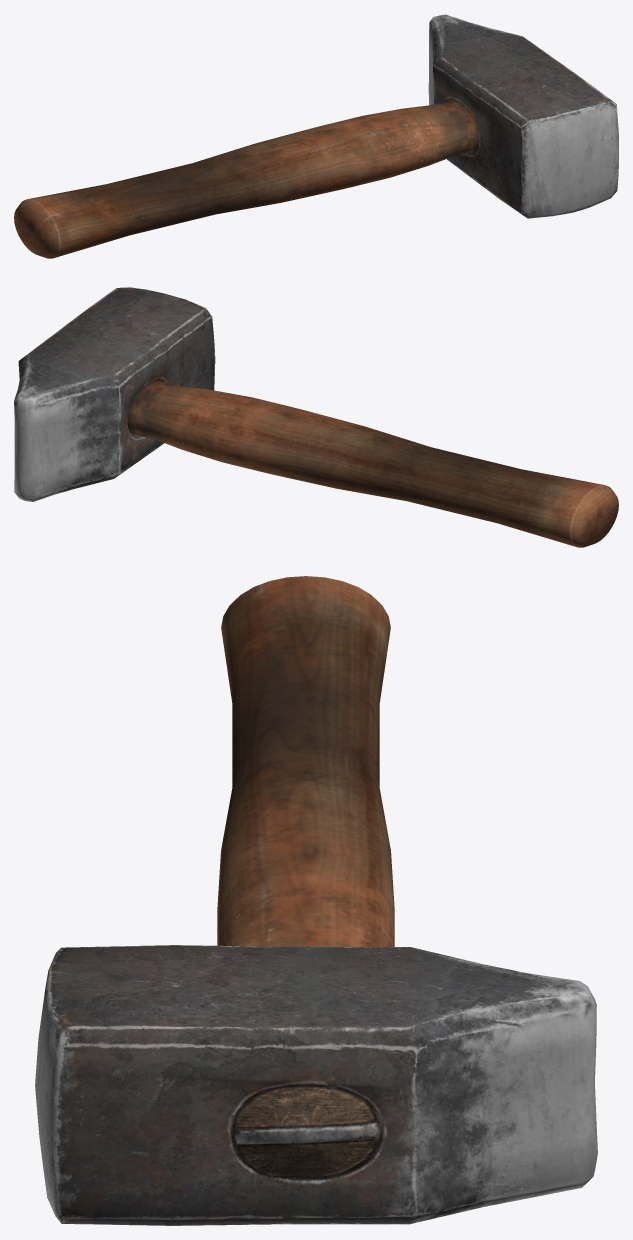
The model's file is Hammer upload.fbx.
3 views of the same model, one above another, from view 1: azimuth 30°, elevation 25°; view 2: azimuth 150°, elevation 25°; view 3: azimuth 270°, elevation 25° (orthographic). The views are drawn at different scales.
Parts seen in each view (by area): view 1: Cube.002; view 2: Cube.002; view 3: Cube.002.
Boxes of the visible parts, <box> form: Cube.002: <box>14,14,618,258</box>; Cube.002: <box>14,287,618,547</box>; Cube.002: <box>35,576,597,1225</box>.
Bounding box in the file's own units: 683 × 129 × 316.
